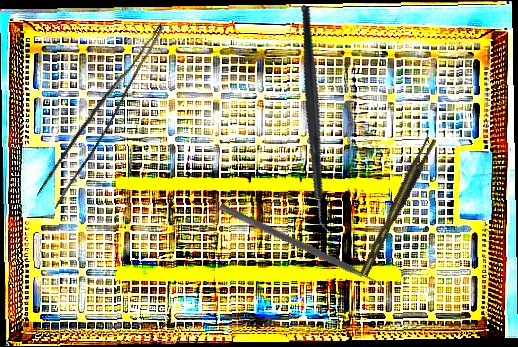Chopper: (241, 4, 395, 239)
Spatula Surgical: (215, 203, 388, 295)
Tissue Forceps: (35, 12, 165, 212), (353, 135, 441, 277)
